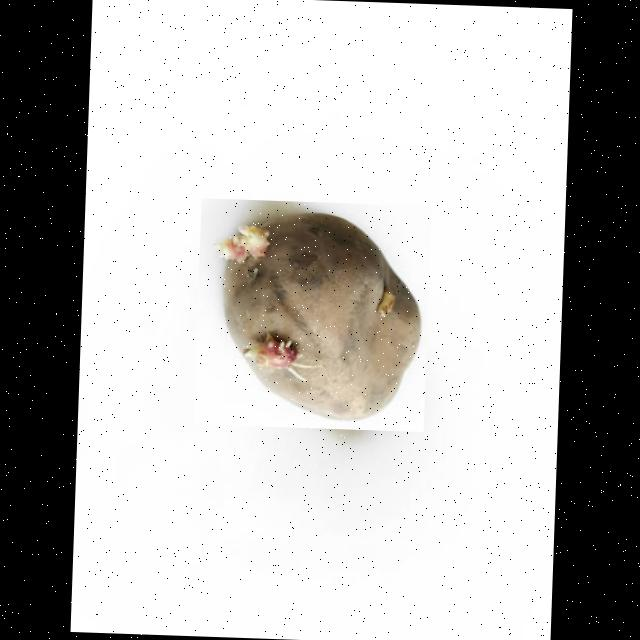Sprouted potato: (192, 198, 430, 432)
